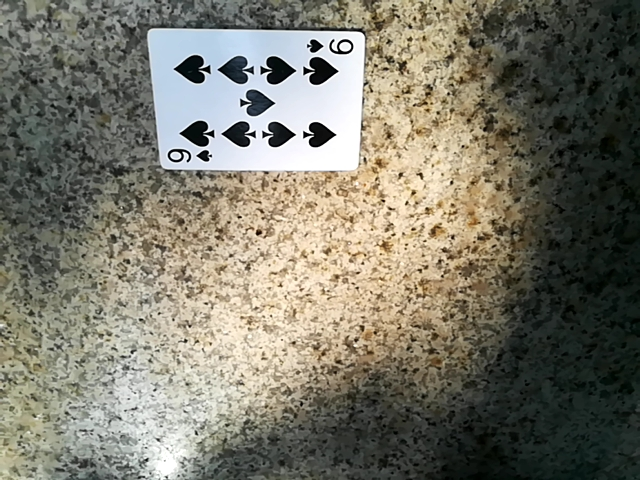ht 9: (141, 16, 360, 166)
